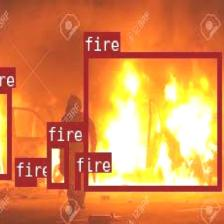fire: (84, 52, 220, 190), (46, 141, 68, 187), (0, 87, 11, 178), (14, 178, 36, 184), (74, 172, 79, 188)
